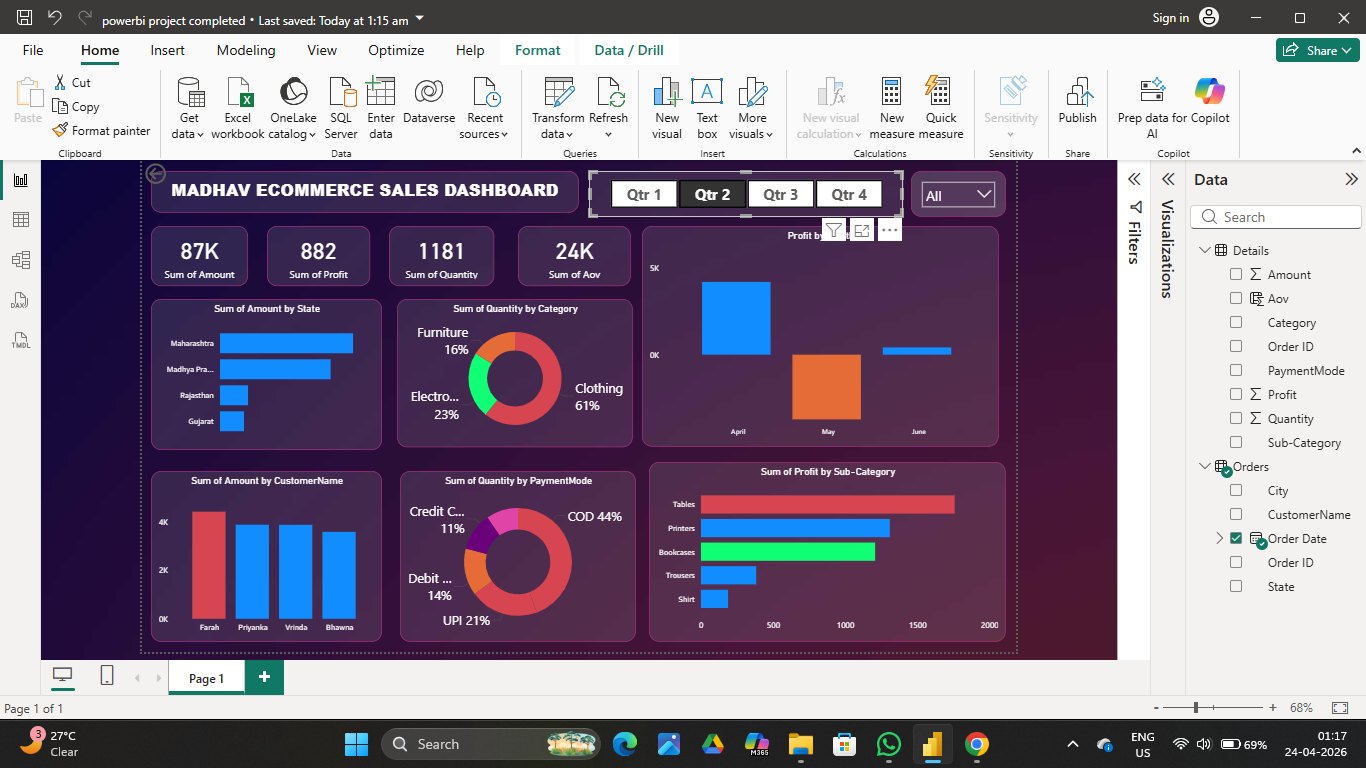

The dashboard page shown, as its layout file describes it:
{"tool":"powerbi","page":{"name":"Page 1","canvas":[1280,720],"ordinal":0},"visuals":[{"type":"textbox","box":[13.2,16.1,626.3,61.5],"z":0},{"type":"columnChart","title":"Profit by Month","fields":{"Category":["Orders.Order Date.Variation.Date Hierarchy.Month"],"Y":["Sum(Details.Profit)"]},"box":[732,97,522.1,322.8],"z":1000},{"type":"barChart","fields":{"Category":["Details.Sub-Category"],"Y":["Sum(Details.Profit)"]},"box":[742,442,522.4,263.4],"z":2000},{"type":"donutChart","fields":{"Category":["Details.Category"],"Y":["Sum(Details.Quantity)"]},"box":[373.2,203.4,345.4,216.6],"z":3000},{"type":"donutChart","fields":{"Category":["Details.PaymentMode","Details.Category"],"Y":["Sum(Details.Quantity)"]},"box":[377.6,455.1,345.4,250.2],"z":4000},{"type":"card","fields":{"Values":["Sum(Details.Amount)"]},"box":[13.2,96.6,142,87.8],"z":5000},{"type":"card","fields":{"Values":["Sum(Details.Quantity)"]},"box":[361.5,96.6,153.7,87.8],"z":6000},{"type":"card","fields":{"Values":["Sum(Details.Profit)"]},"box":[182.9,96.6,150.7,87.8],"z":7000},{"type":"card","fields":{"Values":["Sum(Details.Aov)"]},"box":[550.2,96.6,165.4,87.8],"z":8000},{"type":"actionButton","box":[0,0,100,40],"z":9000},{"type":"barChart","fields":{"Category":["Orders.State"],"Y":["Sum(Details.Amount)"]},"box":[13.2,203.4,338,221],"z":10000},{"type":"columnChart","fields":{"Category":["Orders.CustomerName"],"Y":["Sum(Details.Amount)"]},"box":[13.2,455.1,338,250.2],"z":11000},{"type":"slicer","fields":{"Values":["Orders.Order Date.Variation.Date Hierarchy.Quarter"]},"box":[654.1,16.1,459.5,67.3],"z":12000},{"type":"slicer","fields":{"Values":["Orders.State"]},"box":[1125.4,16.1,139,67.3],"z":13000}]}

Visuals, with their boxes on the page's 1280x720 design canvas (x1, y1, x2, y2). These are canvas units, not pixel positions in the 1366x768 screenshot, which may show the page scaled, cropped or inside an application window:
textbox: [13, 16, 640, 78]
"Profit by Month" columnChart: [732, 97, 1254, 420]
barChart - Details.Sub-Category x Sum(Details.Profit): [742, 442, 1264, 705]
donutChart - Details.Category x Sum(Details.Quantity): [373, 203, 719, 420]
donutChart - Details.PaymentMode x Details.Category: [378, 455, 723, 705]
card - Sum(Details.Amount): [13, 97, 155, 184]
card - Sum(Details.Quantity): [362, 97, 515, 184]
card - Sum(Details.Profit): [183, 97, 334, 184]
card - Sum(Details.Aov): [550, 97, 716, 184]
actionButton: [0, 0, 100, 40]
barChart - Orders.State x Sum(Details.Amount): [13, 203, 351, 424]
columnChart - Orders.CustomerName x Sum(Details.Amount): [13, 455, 351, 705]
slicer - Orders.Order Date.Variation.Date Hierarchy.Quarter: [654, 16, 1114, 83]
slicer - Orders.State: [1125, 16, 1264, 83]
